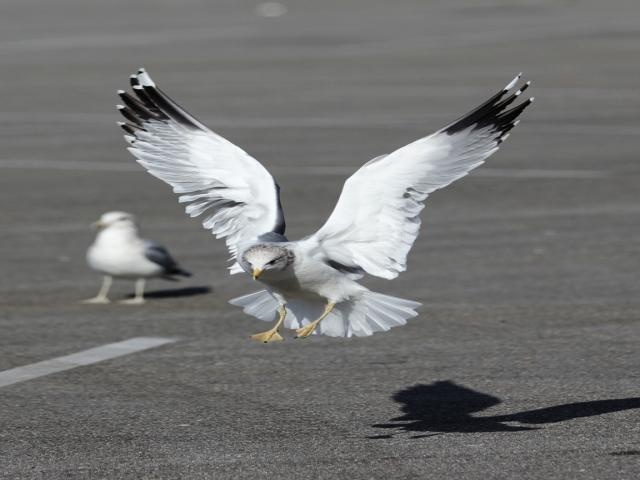Bird: (115, 66, 535, 340), (76, 207, 192, 305)
